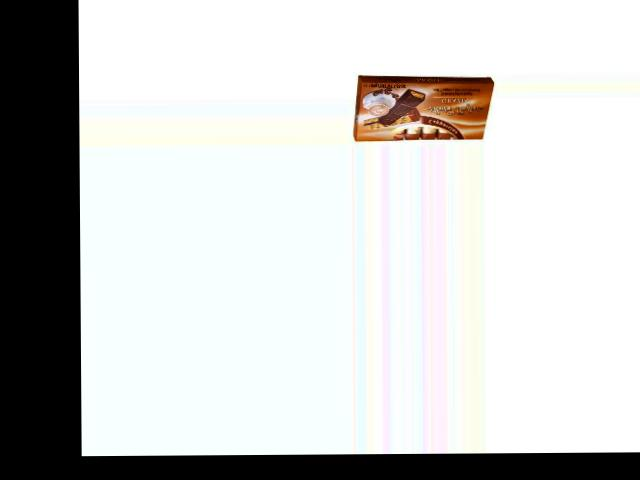chocolate: (352, 74, 497, 142)
